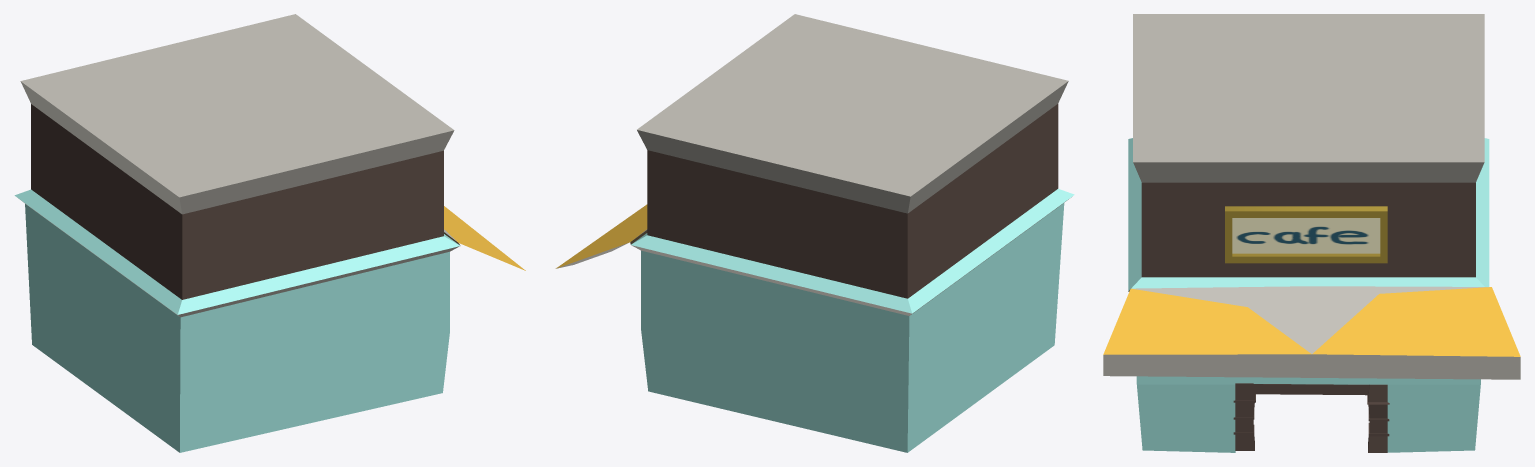
Rendered from cafe-outside.gltf.
3 renders of one model, left to right at view 1: azimuth 30°, elevation 25°; view 2: azimuth 150°, elevation 25°; view 3: azimuth 270°, elevation 25°, orthographic. The views are drawn at different scales.
Parts seen in each view (by area): view 1: cafe shape; view 2: cafe shape; view 3: cafe shape, sign board, door side.001, door side.002, Cube.002.
Boxes of the visible parts, x1,y1,x2,y2 form: cafe shape: [14, 14, 525, 452]; cafe shape: [555, 14, 1074, 452]; cafe shape: [1103, 14, 1520, 452]; sign board: [1225, 206, 1387, 263]; door side.001: [1367, 384, 1389, 452]; door side.002: [1233, 383, 1255, 450]; Cube.002: [1253, 384, 1368, 395].
Bounding box in the file's own units: 15.3 × 11.2 × 14.52.
Materials: 7 (1 with a texture image).
